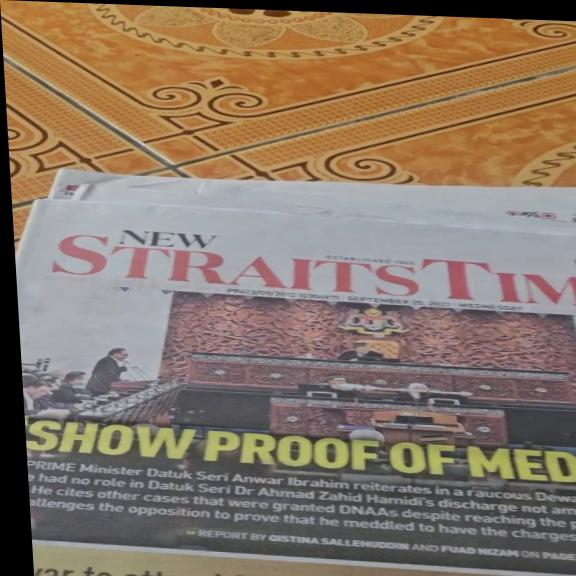Kertas: (14, 167, 576, 576)
